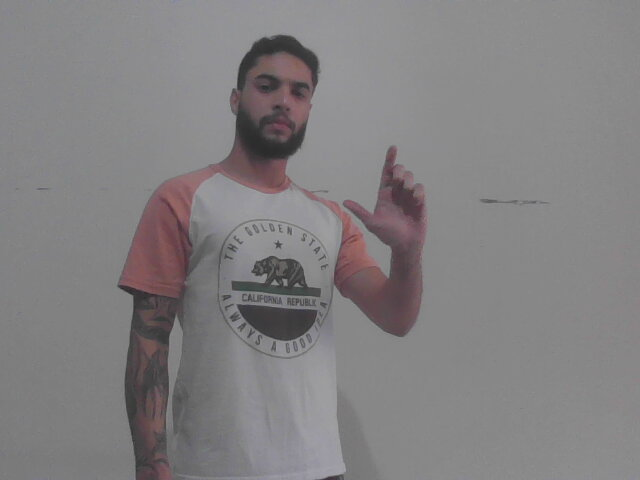l: (340, 140, 433, 253)
